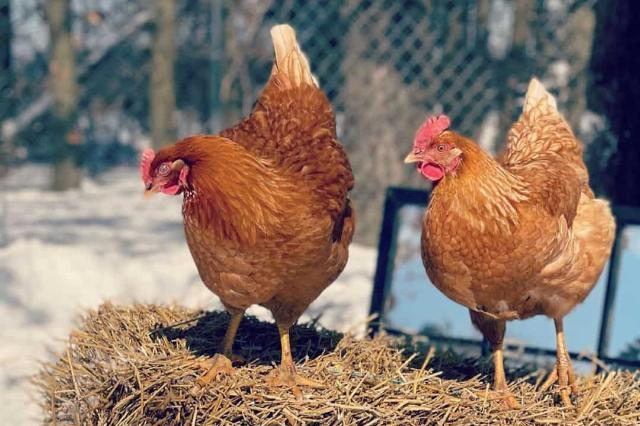Chicken: (140, 22, 358, 400), (405, 75, 616, 409)
